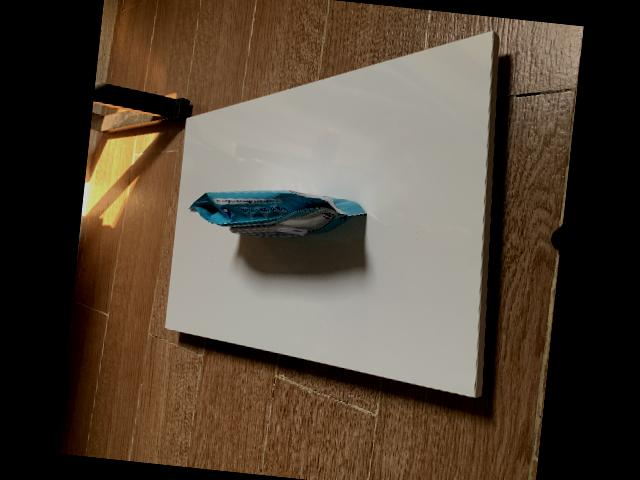Let-green_alcohol_wipes: (191, 189, 365, 237)
